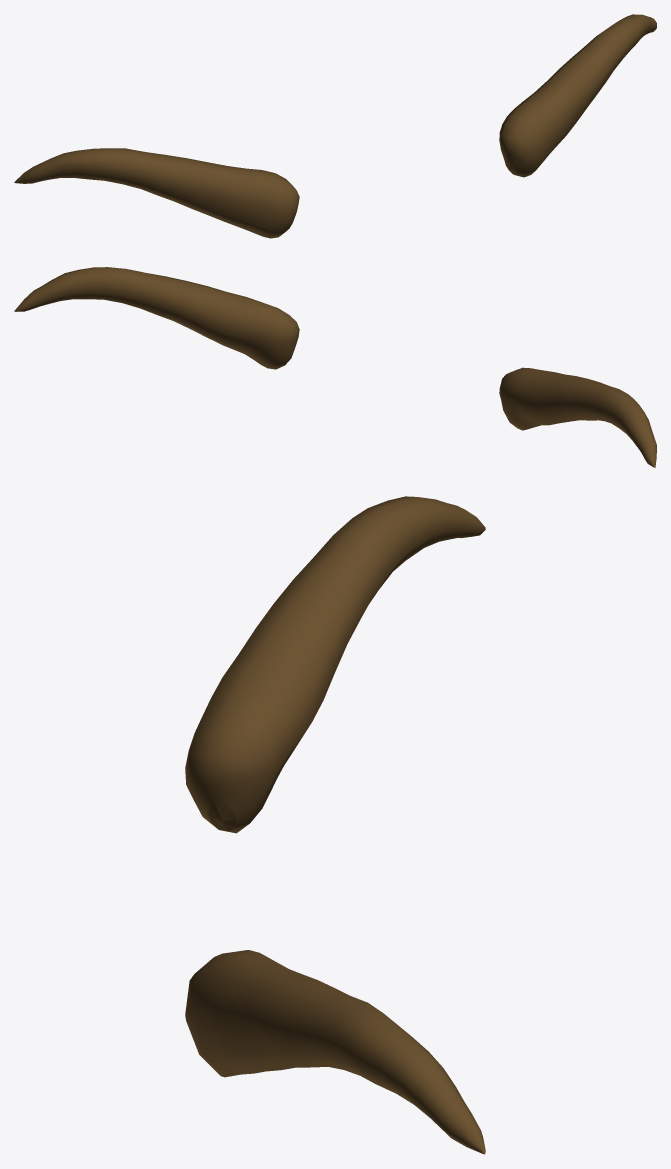
Rendered from eyebrows.glb.
3 views of the same model, one above another, from view 1: azimuth 30°, elevation 25°; view 2: azimuth 150°, elevation 25°; view 3: azimuth 270°, elevation 25° (orthographic). The views are drawn at different scales.
Parts seen in each view (by area): view 1: upward2, upward1; view 2: upward1, upward2; view 3: upward2, upward1.
Part boxes in pixels (x1,y1,x2,y2): upward2: (14,148,299,238); upward1: (499,14,656,177); upward1: (14,267,299,369); upward2: (499,367,656,467); upward2: (185,496,485,833); upward1: (185,950,485,1154).
Size of the model in its own units: 0.00582 by 0.000801 by 0.00118.
